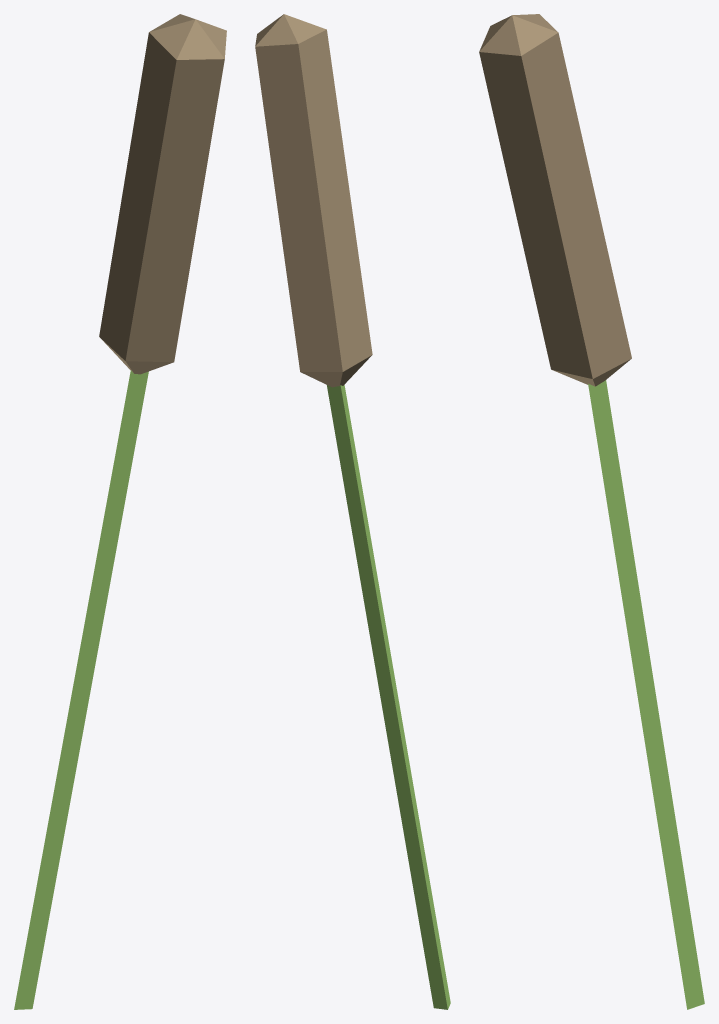
The model's file is Reed_b_04.fbx.
The picture shows the model from 3 angles, left to right: view 1: azimuth 30°, elevation 25°; view 2: azimuth 210°, elevation 25°; view 3: azimuth 270°, elevation 25°; orthographic projection. The views are drawn at different scales.
Visible parts, largest first — view 1: Reed_b_04; view 2: Reed_b_04; view 3: Reed_b_04.
Part boxes in pixels (box(x1,y1,x2,y2)): Reed_b_04: box(14, 14, 226, 1009); Reed_b_04: box(255, 14, 450, 1009); Reed_b_04: box(479, 14, 704, 1009).
Bounding box in the file's own units: 10.27 × 79.33 × 15.74.
